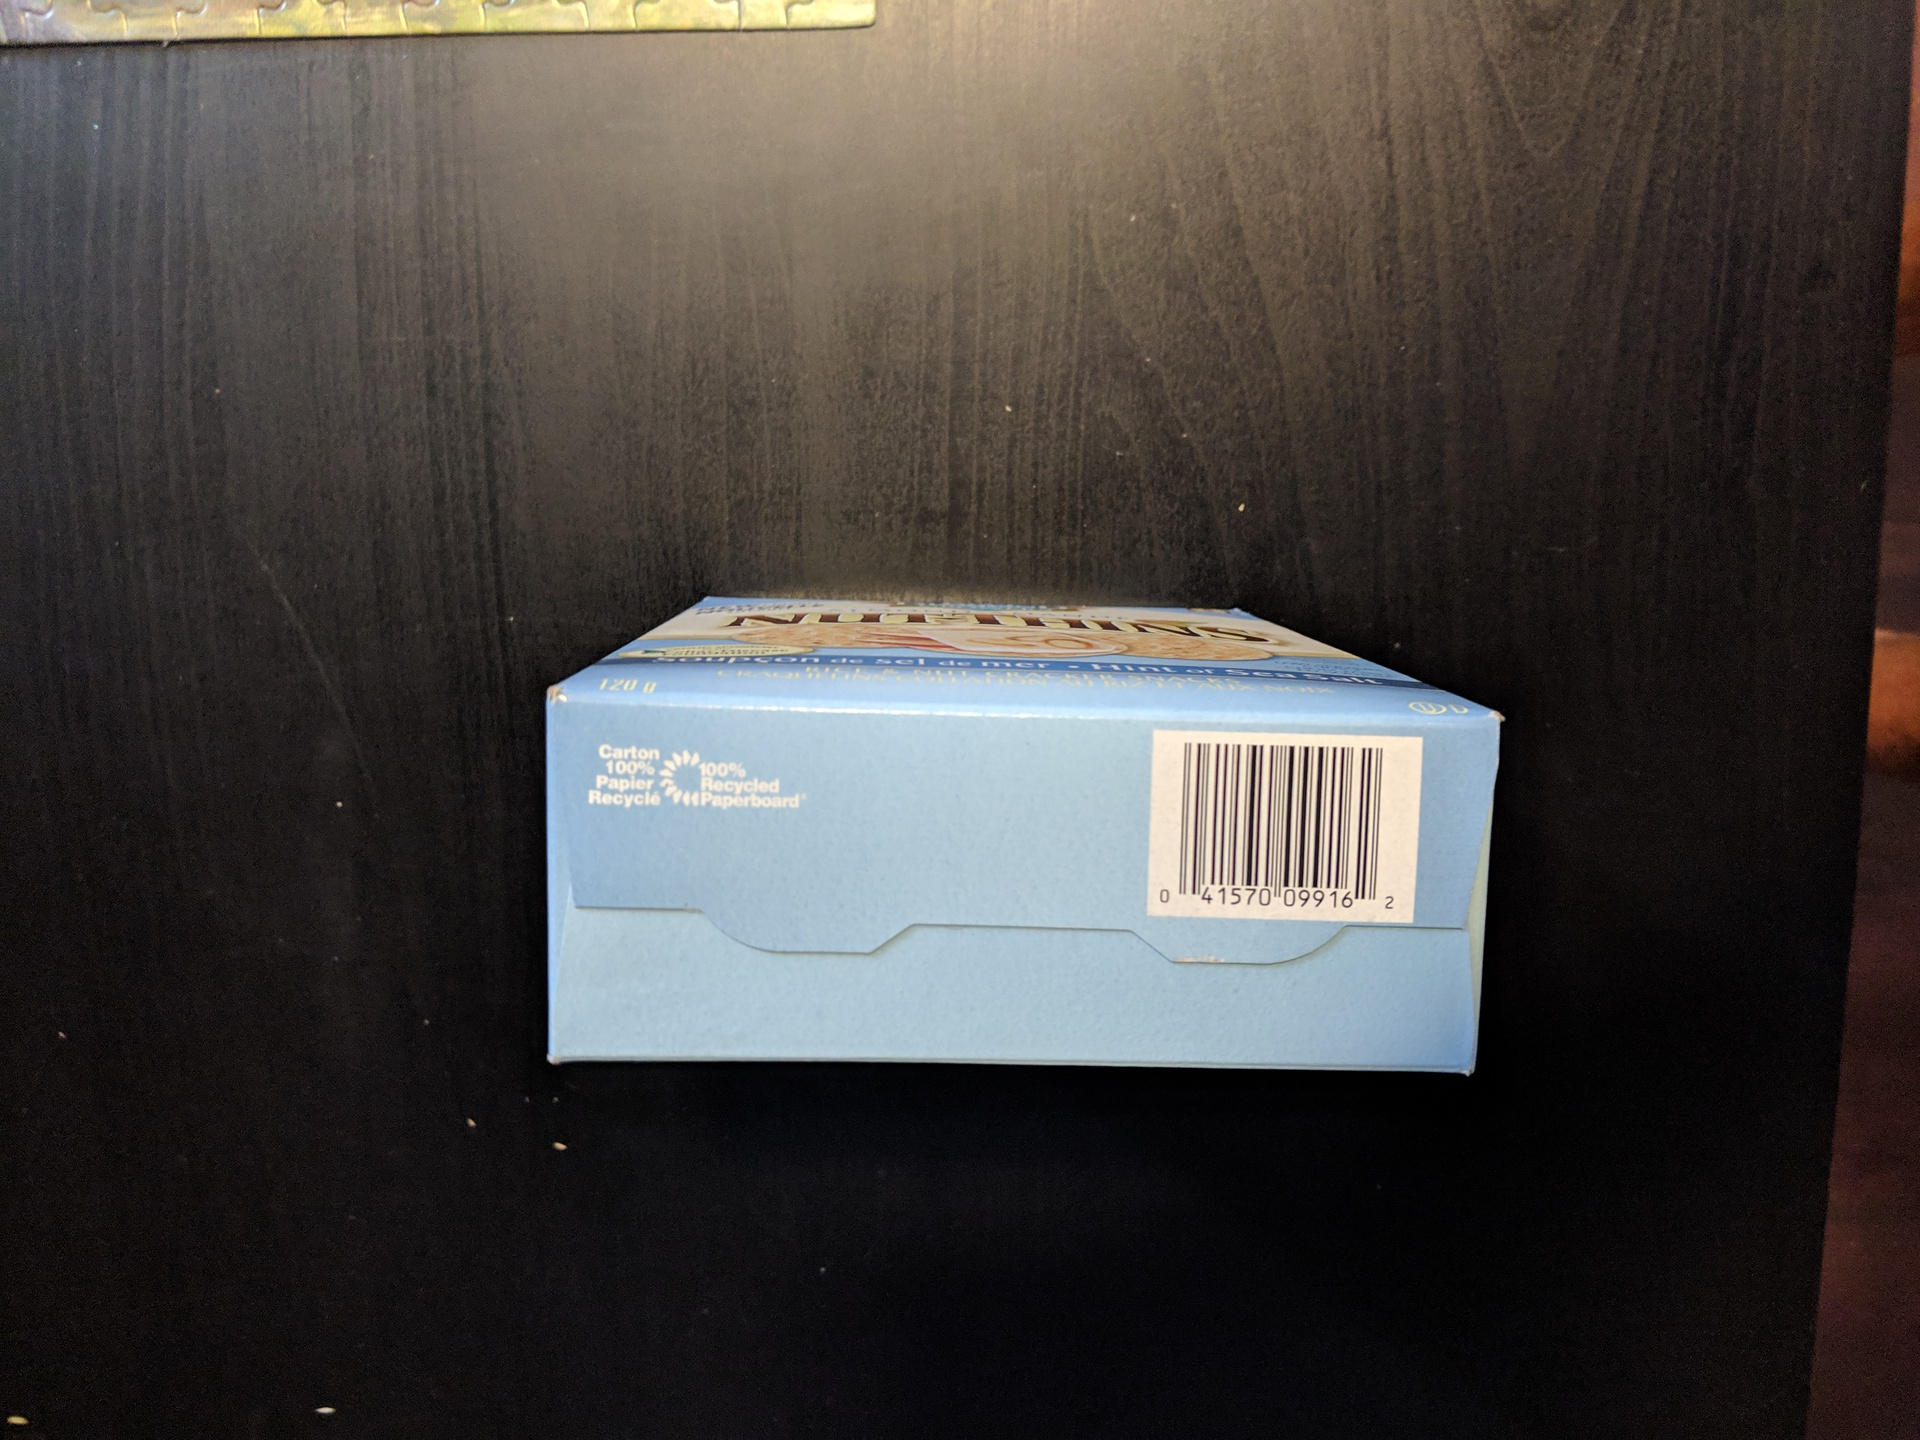blue_diamond_nut_thins_almond_seasalt: (547, 590, 1503, 1068)
